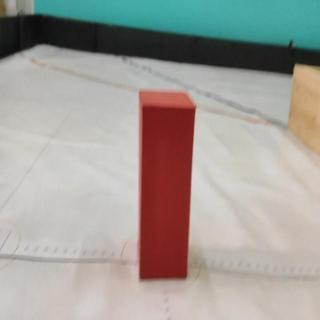redbox: (137, 87, 194, 283)
